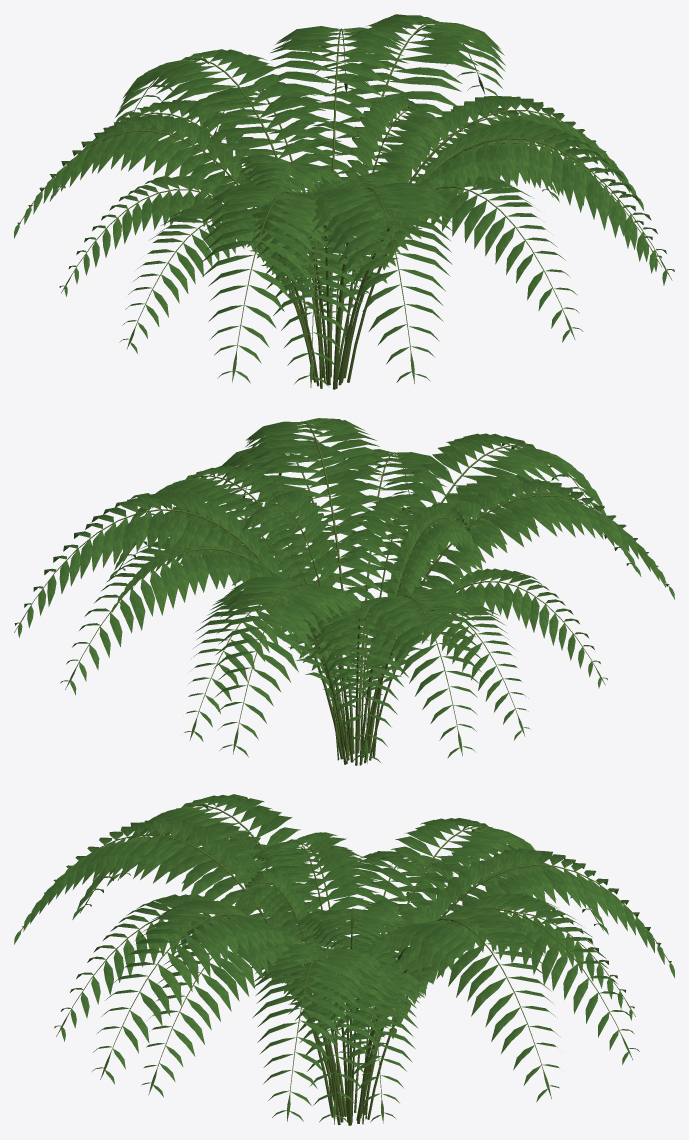
File: b-fern.glb
3 views of the same model, one above another, from view 1: azimuth 30°, elevation 25°; view 2: azimuth 150°, elevation 25°; view 3: azimuth 270°, elevation 25° (orthographic). The views are drawn at different scales.
Visible parts, largest first — view 1: Foliage, Stems; view 2: Foliage, Stems; view 3: Foliage, Stems.
Part boxes in pixels (x1,y1,x2,y2): Foliage: (14, 14, 674, 386); Stems: (20, 21, 672, 389); Foliage: (14, 418, 674, 763); Stems: (14, 421, 668, 765); Foliage: (14, 794, 674, 1123); Stems: (21, 805, 669, 1125).
Size of the model in its own units: 1.38 by 0.7 by 1.59.
Materials: 2 (1 with a texture image).
